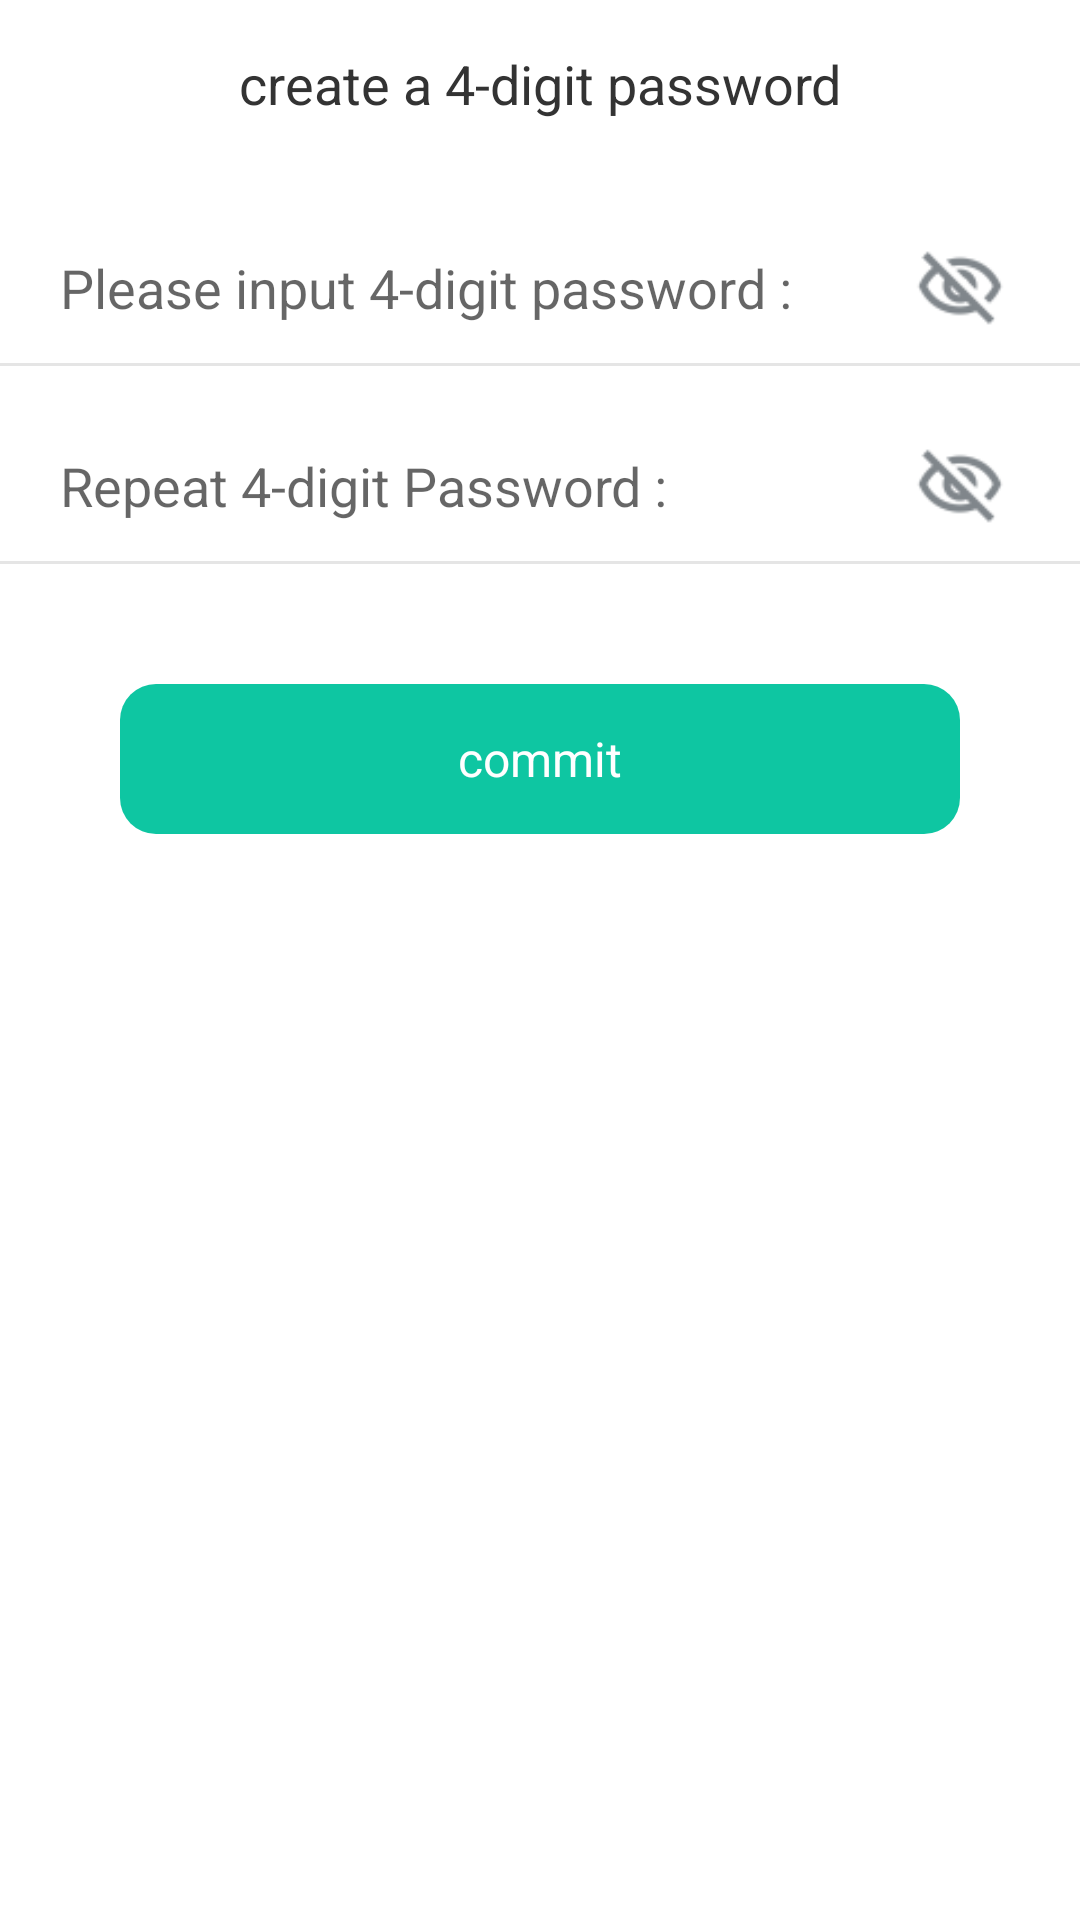

Icons on this 1080 × 1920 Android screen, each with the point to tap as [x,y]:
setpwd noshow: [960,288], [960,486]
